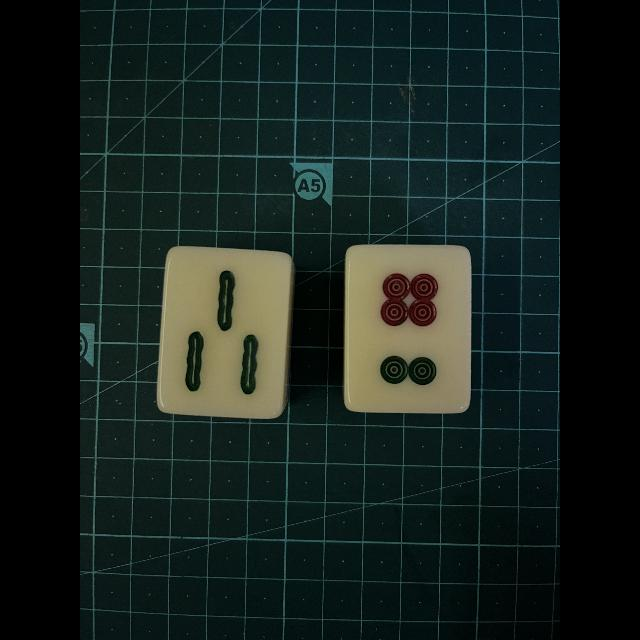b3: (164, 250, 280, 414)
d6: (349, 247, 466, 409)
